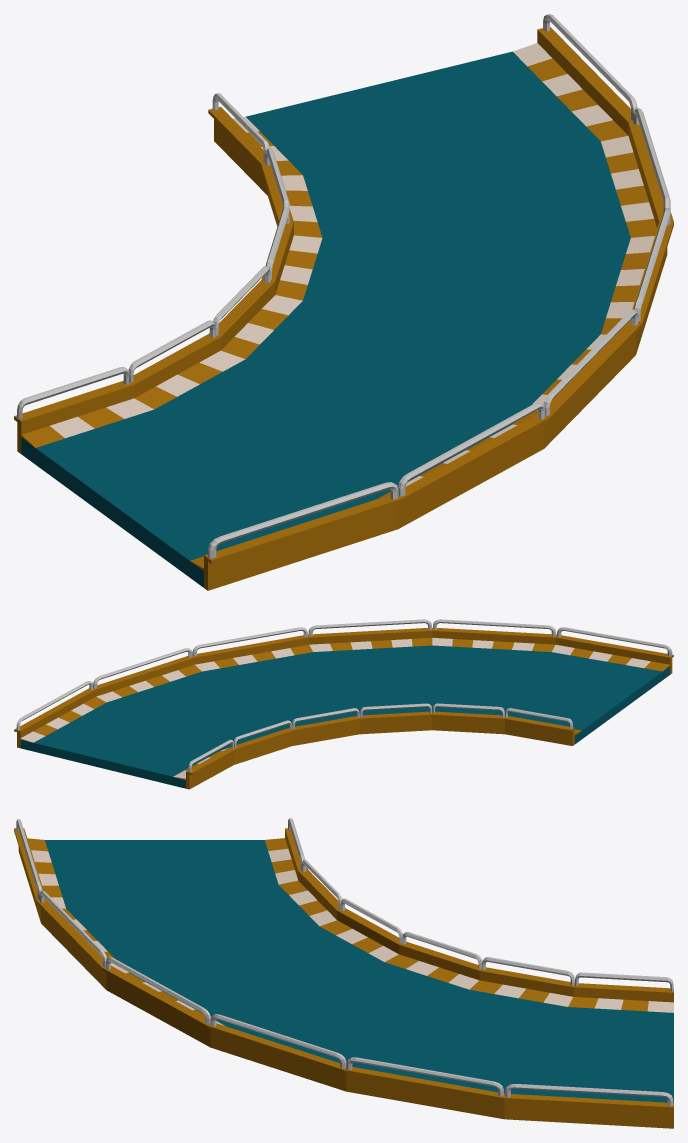
File: curveRight-90_l.FBX
The picture shows the model from 3 angles, top to bottom: view 1: azimuth 30°, elevation 25°; view 2: azimuth 150°, elevation 25°; view 3: azimuth 270°, elevation 25°; orthographic projection. The views are drawn at different scales.
Visible parts, largest first — view 1: curveRight-90_l, wall_l, wall_r, curbs_r, curbs_l; view 2: curveRight-90_l, wall_l, wall_r, curbs_l; view 3: curveRight-90_l, wall_l, wall_r, curbs_r, curbs_l.
Part boxes in pixels (bbox=[...]): curveRight-90_l: bbox=[21, 51, 630, 587]; wall_l: bbox=[204, 14, 673, 590]; wall_r: bbox=[14, 93, 293, 453]; curbs_r: bbox=[21, 116, 322, 447]; curbs_l: bbox=[190, 43, 657, 570]; curveRight-90_l: bbox=[20, 645, 670, 788]; wall_l: bbox=[14, 619, 673, 748]; wall_r: bbox=[186, 703, 574, 789]; curbs_l: bbox=[20, 637, 670, 742]; curveRight-90_l: bbox=[45, 840, 673, 1102]; wall_l: bbox=[14, 819, 673, 1128]; wall_r: bbox=[285, 818, 673, 1002]; curbs_r: bbox=[265, 838, 673, 1012]; curbs_l: bbox=[27, 838, 224, 1025].
Size of what is drawn, in the model's own units: 485 by 29.31 by 485.
